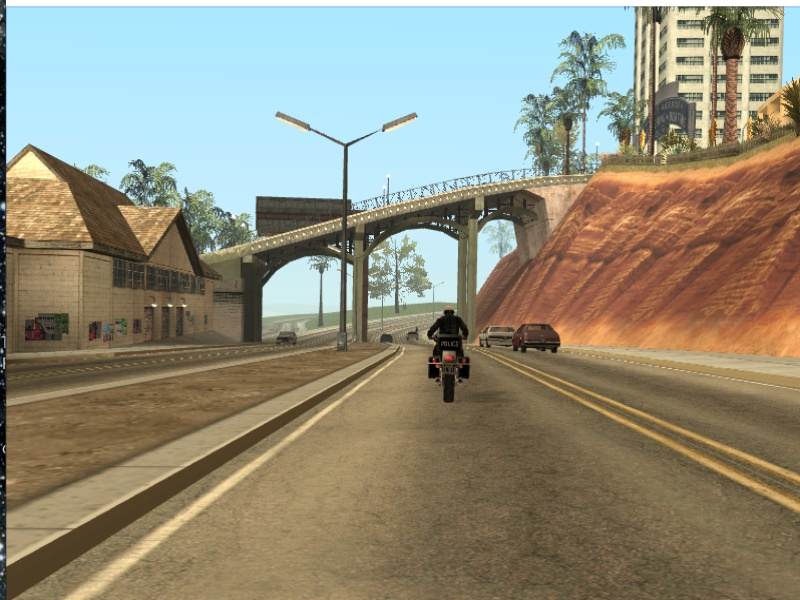pole: (338, 146, 349, 350)
vehicle: (426, 305, 473, 403), (512, 323, 563, 354), (479, 323, 511, 348), (278, 329, 297, 345), (378, 332, 394, 344), (405, 330, 420, 342)
